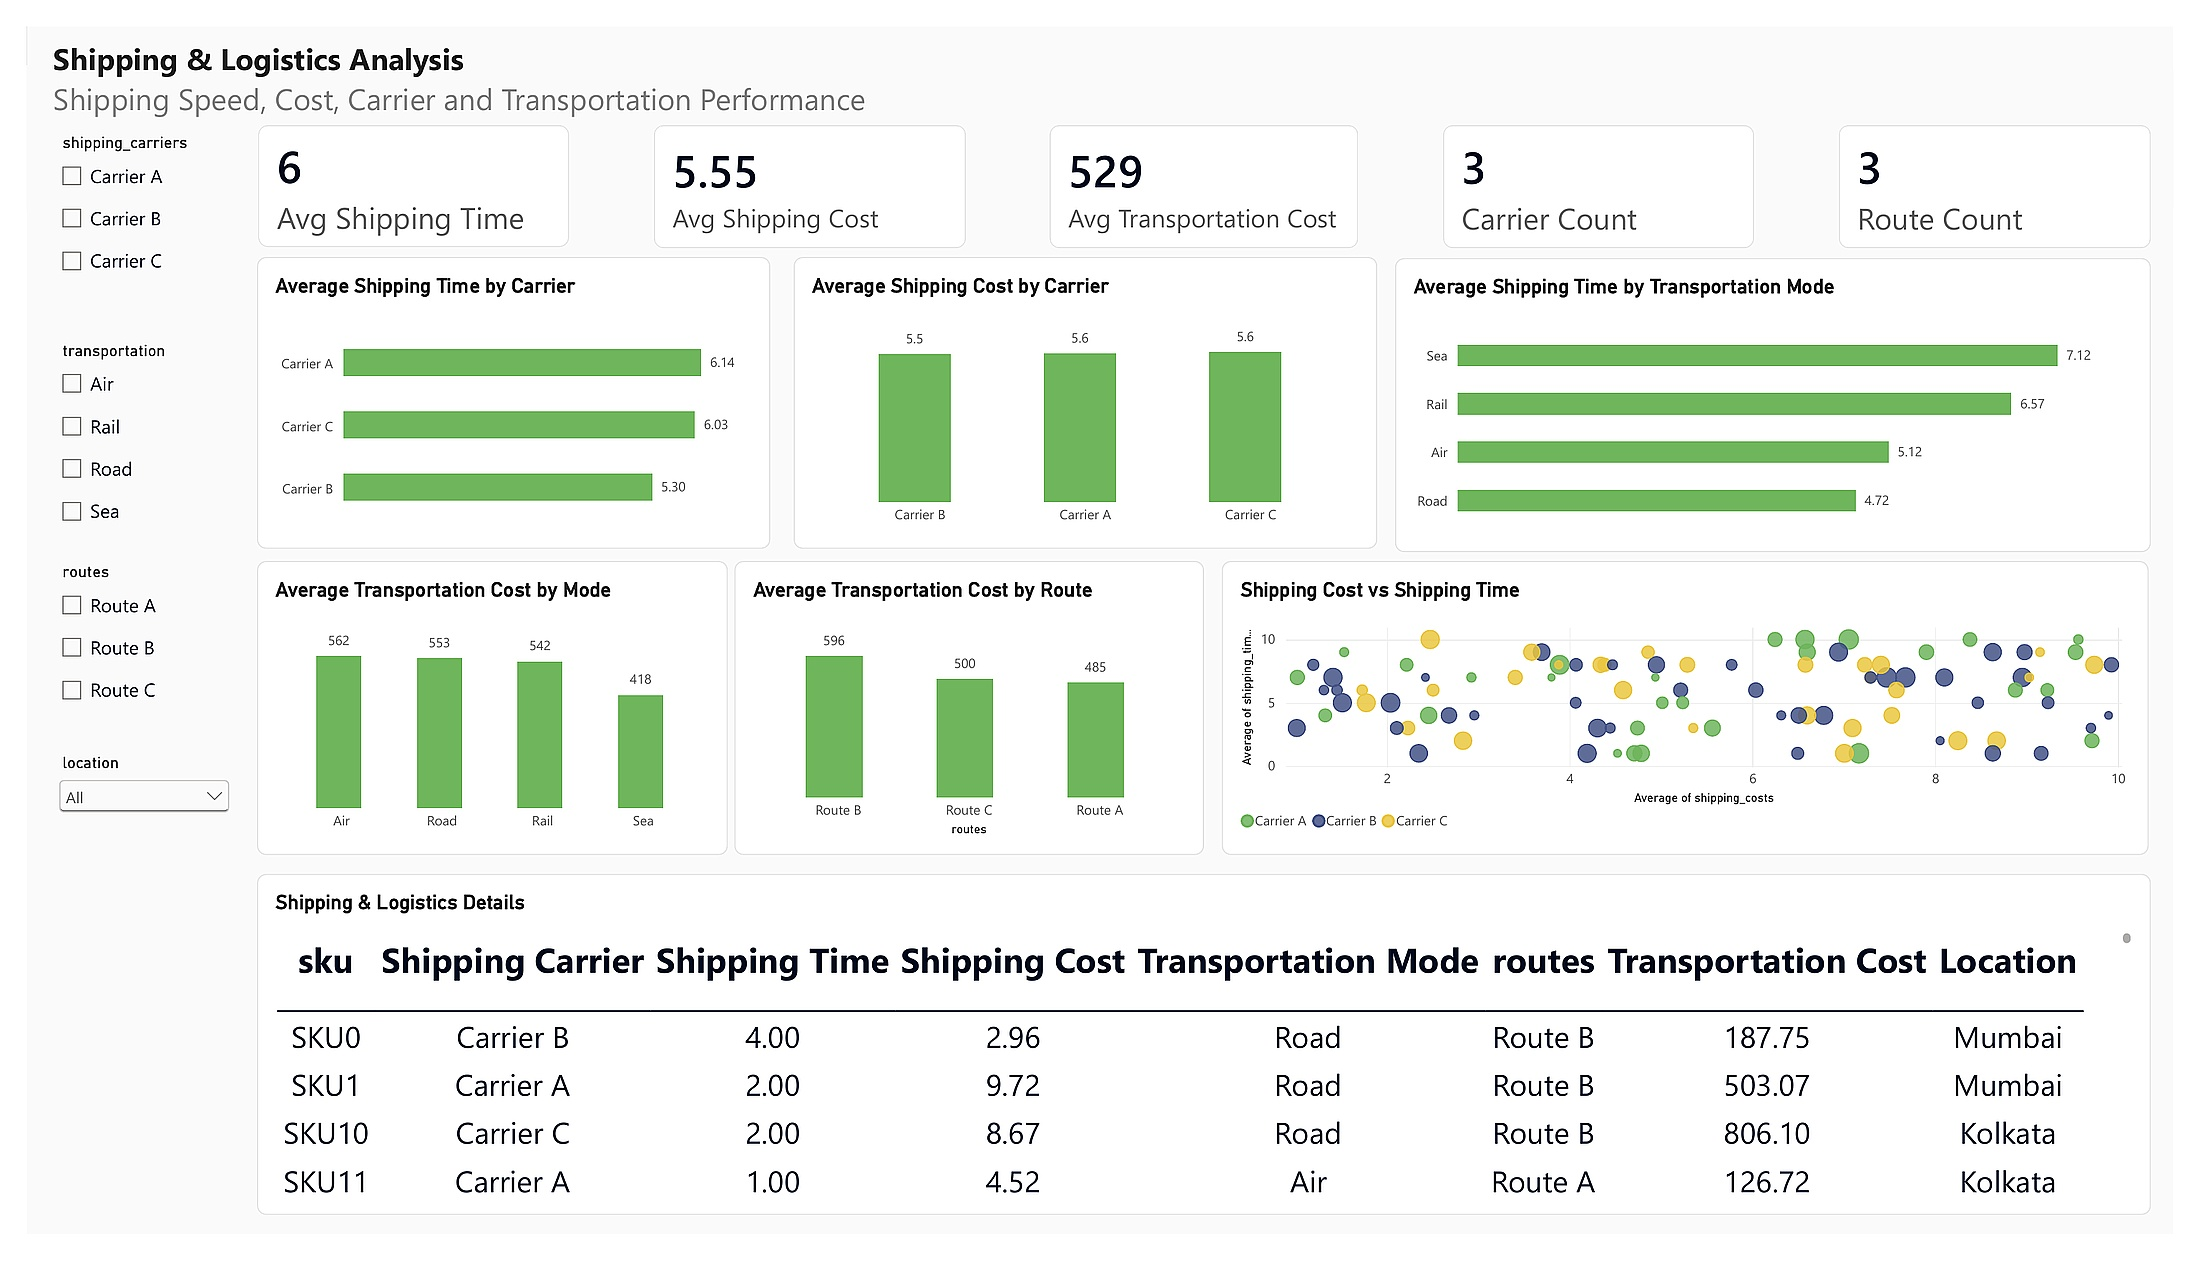

This screenshot's page, from the dashboard's own definition file:
{"tool":"powerbi","page":{"name":"Shipping & Logistics Analysis","canvas":[1920,1080],"ordinal":5},"visuals":[{"type":"cardVisual","fields":{"Data":["Avg(supply_chain_data_cleaned.shipping_times)"]},"box":[207,88,278.5,109.3],"z":0},{"type":"cardVisual","fields":{"Data":["Avg(supply_chain_data_cleaned.shipping_costs)"]},"box":[561.2,88.5,278.5,109.3],"z":1000},{"type":"cardVisual","fields":{"Data":["Avg(supply_chain_data_cleaned.costs)"]},"box":[915.4,88.5,275.8,109.3],"z":2000},{"type":"textbox","box":[24.5,10.2,891.8,77.6],"z":3000},{"type":"clusteredBarChart","title":"Average Shipping Time by Carrier","fields":{"Category":["supply_chain_data_cleaned.shipping_carriers"],"Y":["Avg(supply_chain_data_cleaned.shipping_times)"]},"box":[206.1,206.1,459.2,261.2],"z":4000},{"type":"clusteredBarChart","title":"Average Shipping Time by Transportation Mode","fields":{"Category":["supply_chain_data_cleaned.transportation_modes"],"Y":["Avg(supply_chain_data_cleaned.shipping_times)"]},"box":[1223.9,206.5,676.1,263],"z":5000},{"type":"tableEx","title":"Shipping & Logistics Details","fields":{"Values":["supply_chain_data_cleaned.sku","supply_chain_data_cleaned.shipping_carriers","Avg(supply_chain_data_cleaned.shipping_times)","Avg(supply_chain_data_cleaned.shipping_costs)","supply_chain_data_cleaned.transportation_modes","supply_chain_data_cleaned.routes","Avg(supply_chain_data_cleaned.costs)","supply_chain_data_cleaned.location"]},"box":[206.1,758.3,1693.8,305],"z":6000},{"type":"clusteredColumnChart","title":"Average Transportation Cost by Mode","fields":{"Category":["supply_chain_data_cleaned.transportation_modes"],"Y":["Avg(supply_chain_data_cleaned.costs)"]},"box":[206.1,477.6,420.4,263.3],"z":7000},{"type":"slicer","fields":{"Values":["supply_chain_data_cleaned.transportation_modes"]},"box":[24.5,281.6,161.2,195.9],"z":8000},{"type":"cardVisual","fields":{"Data":["Calcs.Carrier Count"]},"box":[1267,88.5,278.5,109.3],"z":9000},{"type":"cardVisual","fields":{"Data":["Calcs.Route Count"]},"box":[1621.3,88.5,278.5,109.3],"z":10000},{"type":"columnChart","title":"Average Shipping Cost by Carrier","fields":{"Category":["supply_chain_data_cleaned.shipping_carriers"],"Y":["Avg(supply_chain_data_cleaned.shipping_costs)"]},"box":[685.7,206.1,522.4,261.2],"z":11000},{"type":"scatterChart","title":"Shipping Cost vs Shipping Time","fields":{"Category":["supply_chain_data_cleaned.sku"],"Series":["supply_chain_data_cleaned.shipping_carriers"],"Size":["Avg(supply_chain_data_cleaned.costs)"],"X":["Avg(supply_chain_data_cleaned.shipping_costs)"],"Y":["Avg(supply_chain_data_cleaned.shipping_times)"]},"box":[1069.4,477.6,828.6,263.3],"z":12000},{"type":"slicer","fields":{"Values":["supply_chain_data_cleaned.shipping_carriers"]},"box":[24.5,95.9,161.2,167.3],"z":13000},{"type":"slicer","fields":{"Values":["supply_chain_data_cleaned.routes"]},"box":[24.5,479.6,161.2,153.1],"z":14000},{"type":"slicer","fields":{"Values":["supply_chain_data_cleaned.location"]},"box":[24.5,651,161.2,89.8],"z":15000},{"type":"clusteredColumnChart","title":"Average Transportation Cost by Route","fields":{"Category":["supply_chain_data_cleaned.routes"],"Y":["Avg(supply_chain_data_cleaned.costs)"]},"box":[632.7,477.6,420.4,263.3],"z":15001}]}

Visuals, with their boxes in screenshot pixels (x1, y1, x2, y2), scaled from the page's 1920x1080 canvas onto the 2200x1261 screenshot:
cardVisual - Avg(supply_chain_data_cleaned.shipping_times): region(237, 103, 556, 230)
cardVisual - Avg(supply_chain_data_cleaned.shipping_costs): region(643, 103, 962, 231)
cardVisual - Avg(supply_chain_data_cleaned.costs): region(1049, 103, 1365, 231)
textbox: region(28, 12, 1050, 103)
"Average Shipping Time by Carrier" clusteredBarChart: region(236, 241, 762, 546)
"Average Shipping Time by Transportation Mode" clusteredBarChart: region(1402, 241, 2177, 548)
"Shipping & Logistics Details" tableEx: region(236, 885, 2177, 1242)
"Average Transportation Cost by Mode" clusteredColumnChart: region(236, 558, 718, 865)
slicer - supply_chain_data_cleaned.transportation_modes: region(28, 329, 213, 558)
cardVisual - Calcs.Carrier Count: region(1452, 103, 1771, 231)
cardVisual - Calcs.Route Count: region(1858, 103, 2177, 231)
"Average Shipping Cost by Carrier" columnChart: region(786, 241, 1384, 546)
"Shipping Cost vs Shipping Time" scatterChart: region(1225, 558, 2175, 865)
slicer - supply_chain_data_cleaned.shipping_carriers: region(28, 112, 213, 307)
slicer - supply_chain_data_cleaned.routes: region(28, 560, 213, 739)
slicer - supply_chain_data_cleaned.location: region(28, 760, 213, 865)
"Average Transportation Cost by Route" clusteredColumnChart: region(725, 558, 1207, 865)
